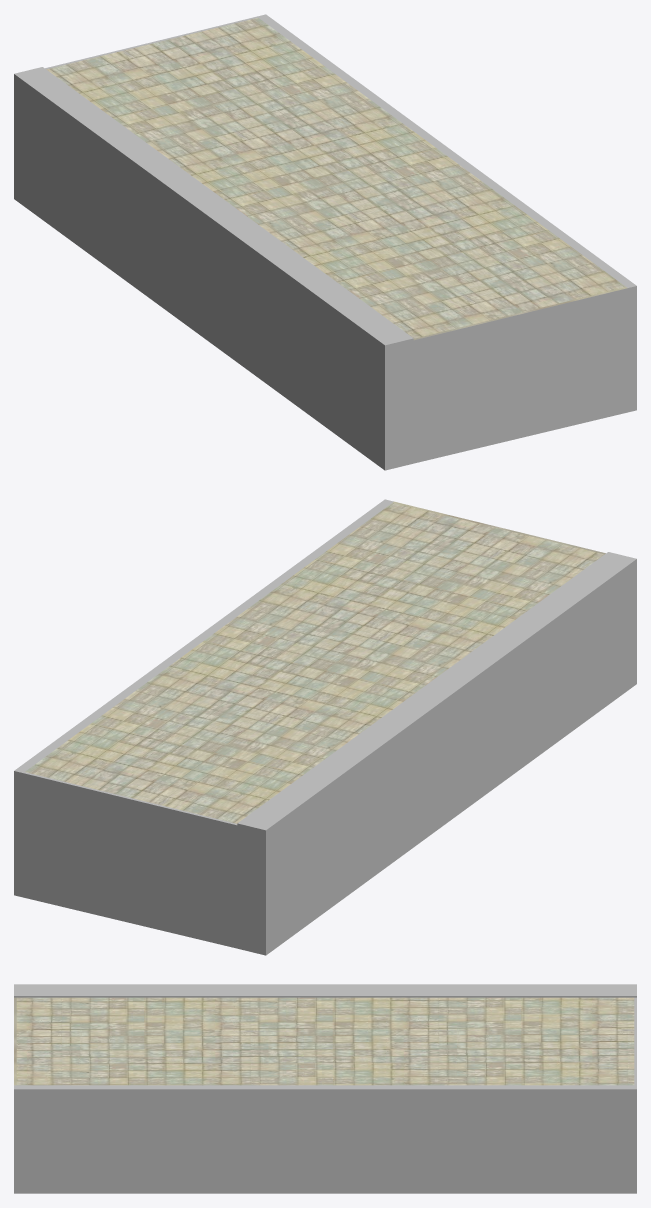
The model's file is road_w01a.fbx.
3 renders of one model, top to bottom at view 1: azimuth 30°, elevation 25°; view 2: azimuth 150°, elevation 25°; view 3: azimuth 270°, elevation 25°, orthographic. The views are drawn at different scales.
Parts seen in each view (by area): view 1: road_w01a; view 2: road_w01a; view 3: road_w01a.
Part boxes in pixels (x1,y1,x2,y2): road_w01a: (14, 14, 636, 470); road_w01a: (14, 499, 636, 955); road_w01a: (14, 984, 636, 1193).
Bounding box in the file's own units: 4.71 × 2.26 × 12.
